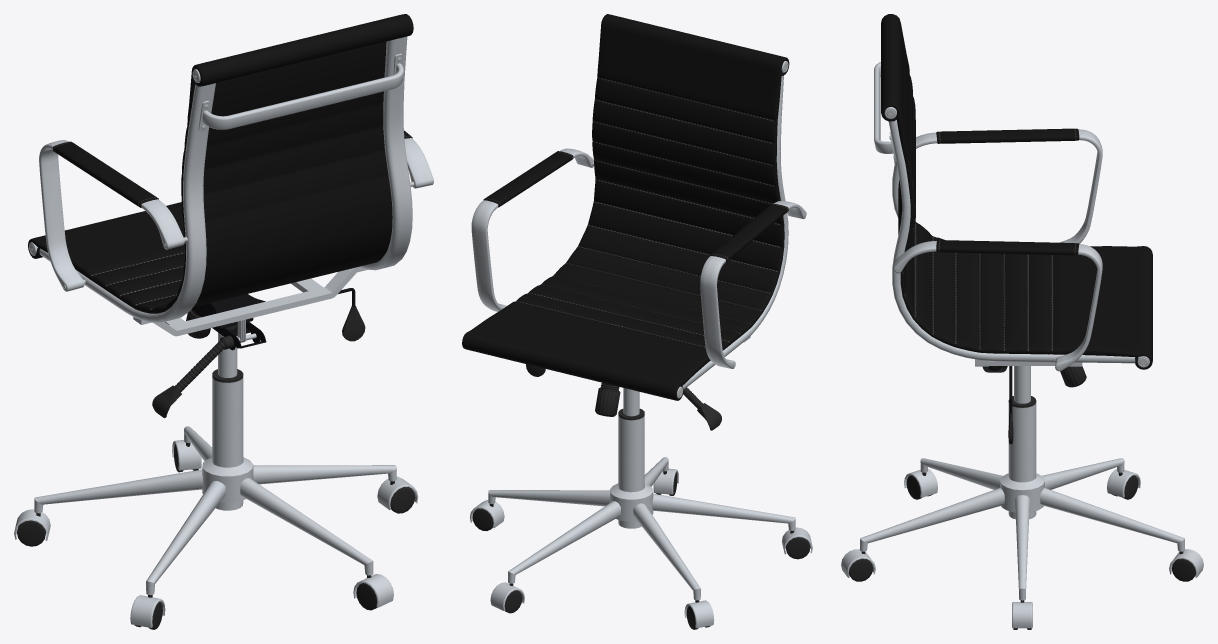
Rendered from high-poly_pbr_office_chair.glb.
3 views of the same model, side by side, from view 1: azimuth 30°, elevation 25°; view 2: azimuth 150°, elevation 25°; view 3: azimuth 270°, elevation 25° (orthographic). The views are drawn at different scales.
Parts seen in each view (by area): view 1: office_chair; view 2: office_chair; view 3: office_chair.
Boxes of the visible parts, x1,y1,x2,y2 form: office_chair: [14, 14, 433, 629]; office_chair: [462, 14, 812, 629]; office_chair: [841, 14, 1203, 629].
Bounding box in the file's own units: 56.69 × 90.06 × 59.6.
Materials: 1 (1 with a texture image).
